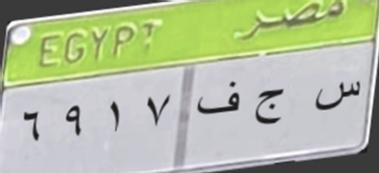1: (108, 100, 126, 133)
6: (20, 110, 44, 143)
7: (144, 92, 172, 128)
9: (64, 104, 86, 142)
faa: (193, 78, 240, 121)
jeem: (251, 86, 288, 130)
seen: (310, 78, 363, 113)
